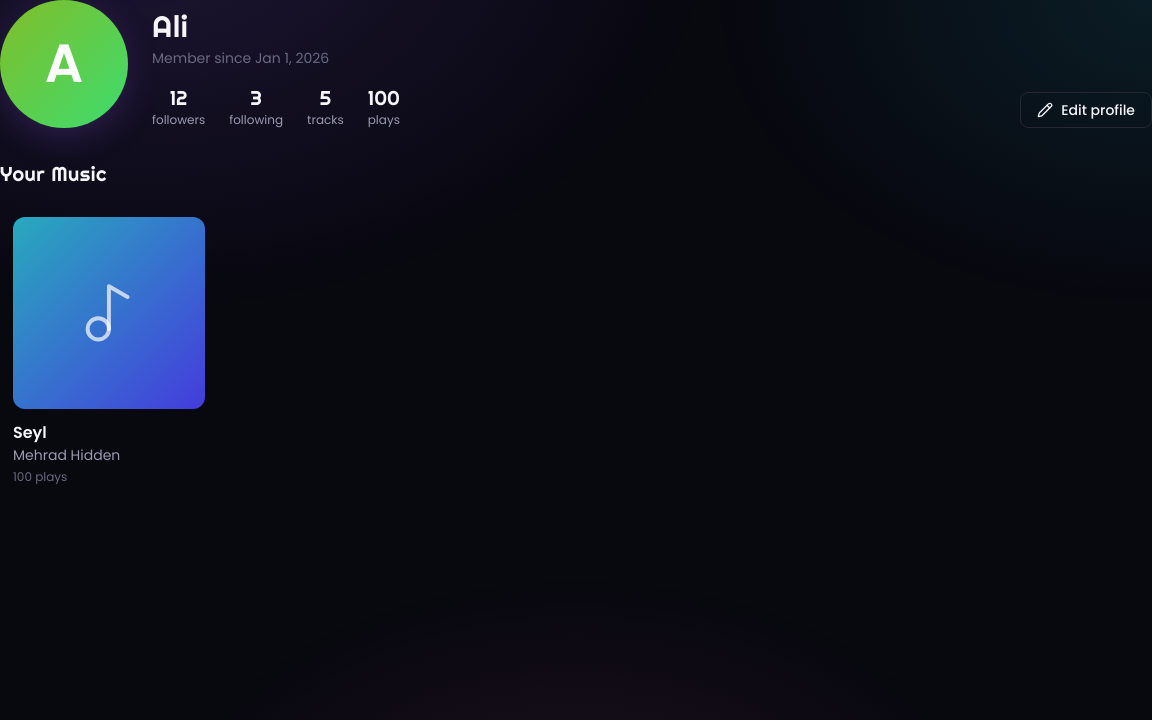
it: ProfileView — viewing your own profile › won't let the name be saved blank
Click the button "Edit profile" at [1086, 110], box [1020,92,1151,128]
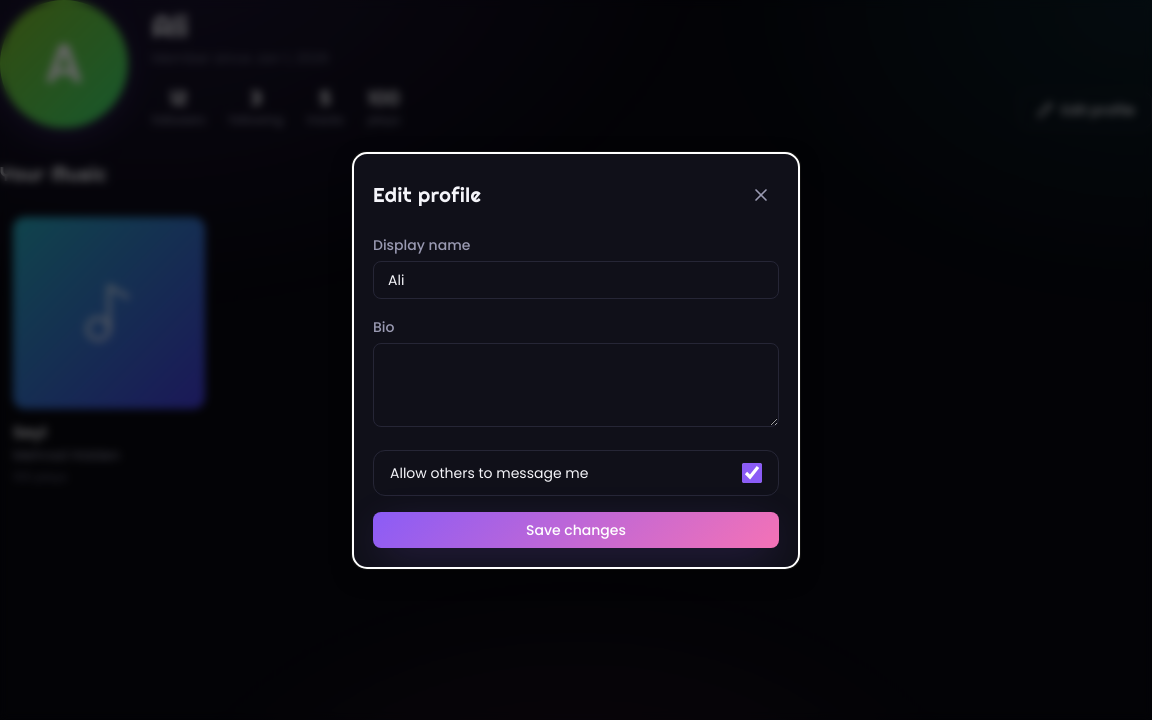
Clear the field showing "Ali" at [576, 280], box [373,260,779,298]
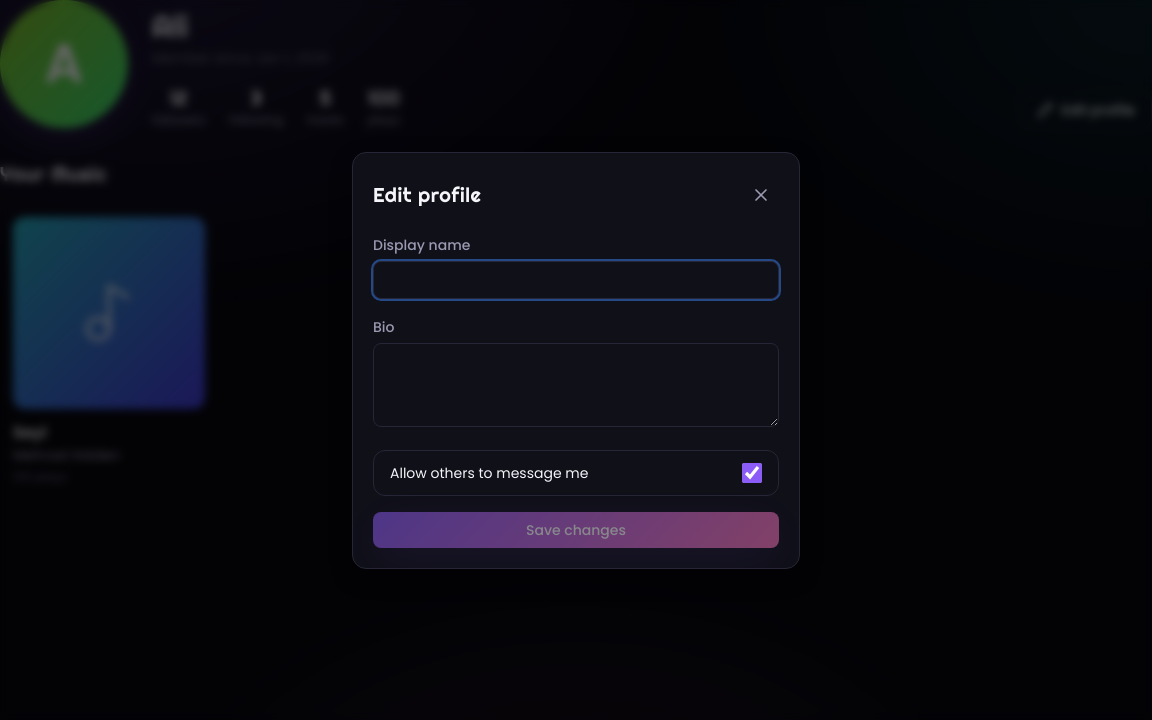
Now the button "Save changes" is disabled, box [373,512,779,548]
